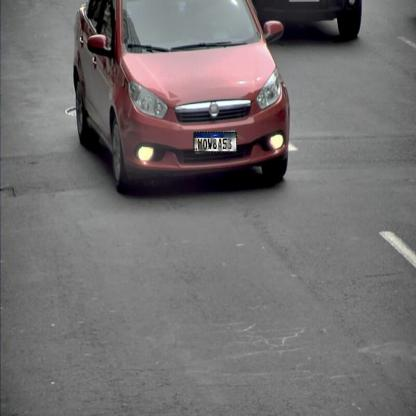PlacaM: (194, 132, 237, 152)
